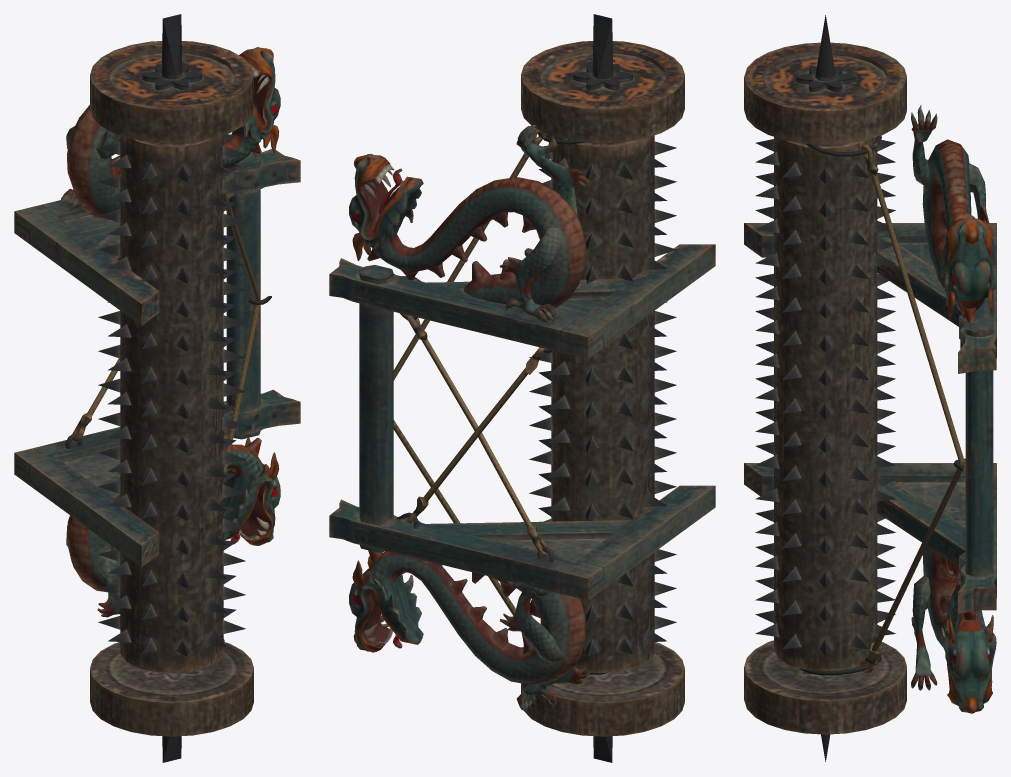
Rendered from Ram.fbx.
The picture shows the model from 3 angles, left to right: view 1: azimuth 30°, elevation 25°; view 2: azimuth 150°, elevation 25°; view 3: azimuth 270°, elevation 25°; orthographic projection.
Parts seen in each view (by area): view 1: set_0_group_0; view 2: set_0_group_0; view 3: set_0_group_0.
Boxes of the visible parts, x1=… form: set_0_group_0: x1=14, y1=14, x2=300, y2=762; set_0_group_0: x1=329, y1=14, x2=715, y2=762; set_0_group_0: x1=744, y1=15, x2=996, y2=761.
Size of the model in its own units: 84.67 by 226 by 69.88.
1 material, 1 textured.
